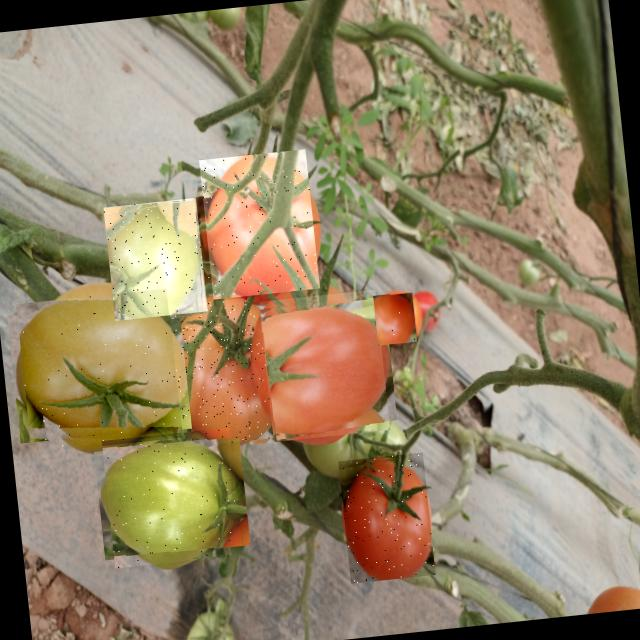Ripe Tomato: (235, 289, 390, 444), (195, 149, 319, 300), (169, 296, 273, 447), (338, 452, 435, 583), (372, 291, 418, 345)
Unripe Tomato: (15, 288, 182, 453), (101, 427, 242, 568), (103, 198, 207, 320)
